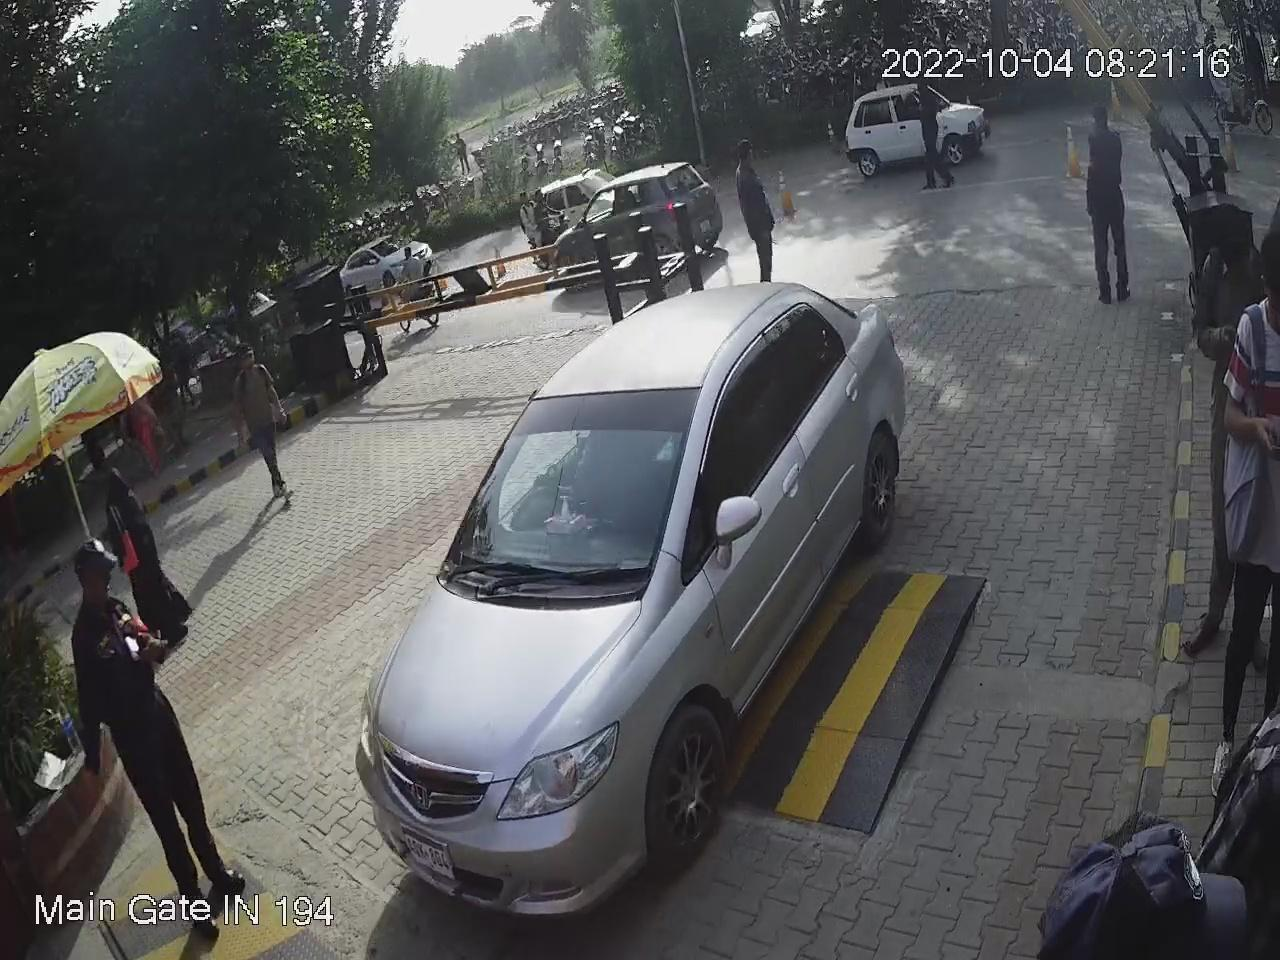windshield: (435, 375, 713, 615)
